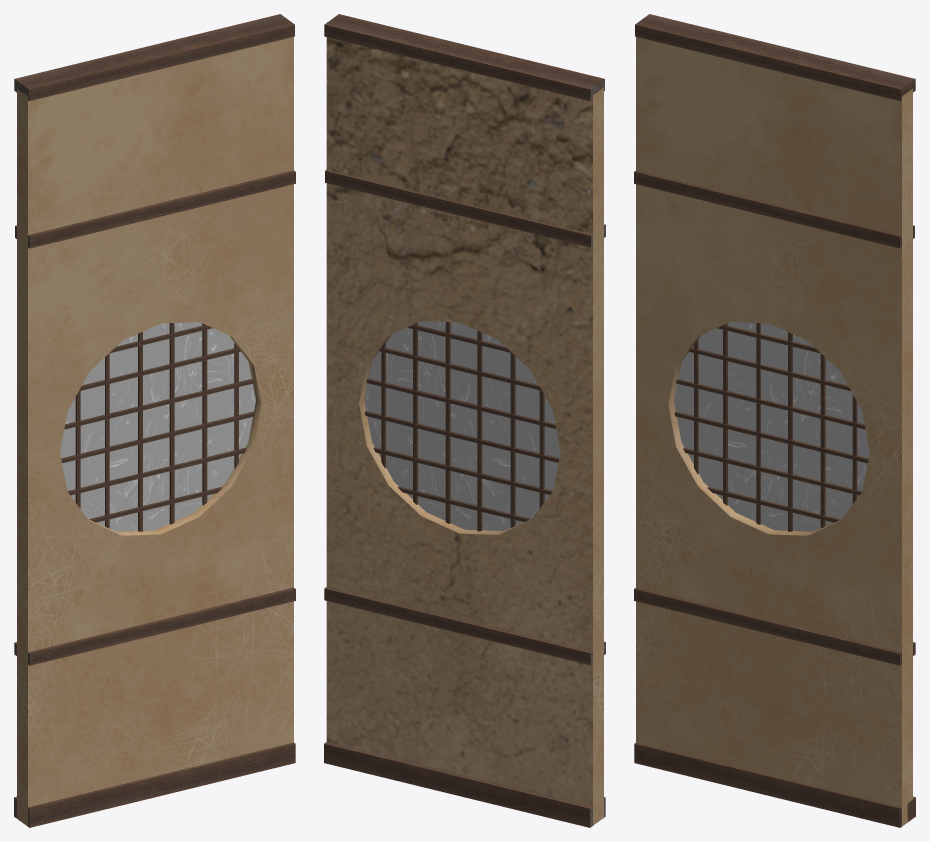
Rendered from intwall02_0t_w2.fbx.
3 views of the same model, side by side, from view 1: azimuth 30°, elevation 25°; view 2: azimuth 150°, elevation 25°; view 3: azimuth 330°, elevation 25° (orthographic).
Visible parts, largest first — view 1: intwall02_0t_w2; view 2: intwall02_0t_w2; view 3: intwall02_0t_w2.
Boxes of the visible parts, box(x1,y1,x2,y2) form: intwall02_0t_w2: box(14, 14, 295, 827); intwall02_0t_w2: box(324, 14, 605, 827); intwall02_0t_w2: box(634, 14, 915, 827).
Size of the model in its own units: 110 by 292 by 11.34.
